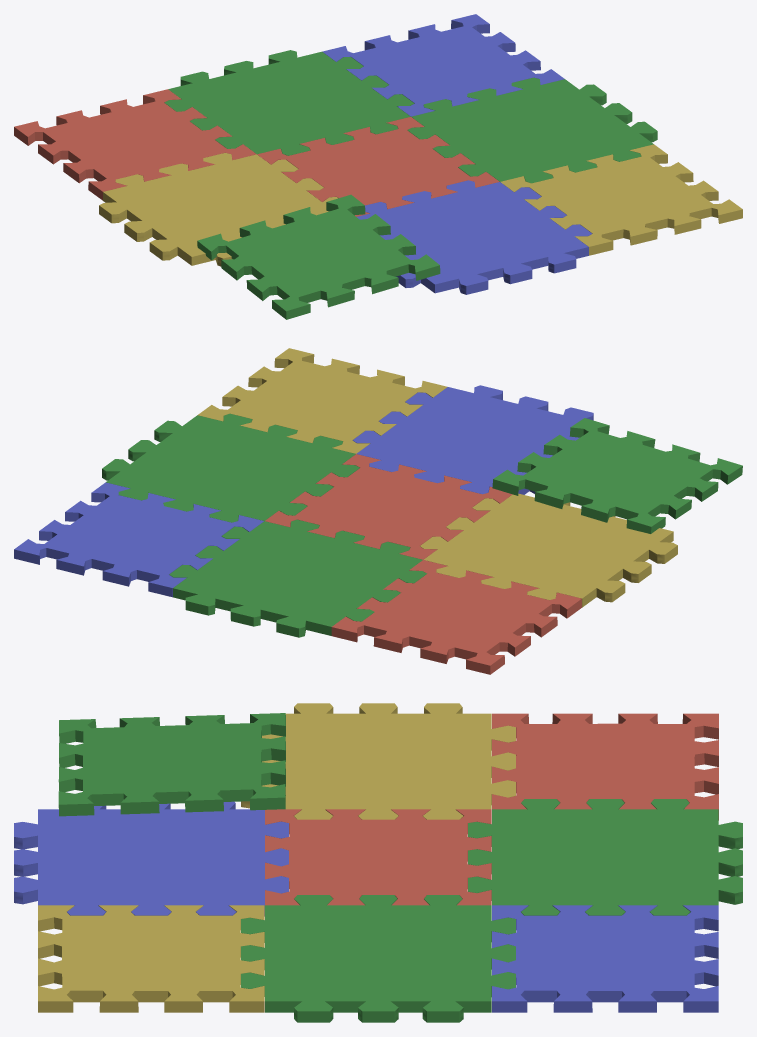
Rendered from ToyFloor (1).fbx.
3 renders of one model, top to bottom at view 1: azimuth 30°, elevation 25°; view 2: azimuth 150°, elevation 25°; view 3: azimuth 270°, elevation 25°, orthographic. The views are drawn at different scales.
Parts seen in each view (by area): view 1: ToyFloor2, ToyFloor3, ToyFloor5, ToyFloor7, ToyFloor6, ToyFloor1, ToyFloor8, ToyFloor, ToyFloor4; view 2: ToyFloor3, ToyFloor2, ToyFloor6, ToyFloor7, ToyFloor8, ToyFloor5, ToyFloor, ToyFloor1, ToyFloor4; view 3: ToyFloor2, ToyFloor3, ToyFloor5, ToyFloor6, ToyFloor, ToyFloor1, ToyFloor7, ToyFloor8, ToyFloor4.
Boxes of the visible parts, box(x1,y1,x2,y2) form: ToyFloor2: box(407, 77, 657, 183); ToyFloor3: box(164, 50, 414, 155); ToyFloor5: box(357, 180, 592, 294); ToyFloor7: box(197, 194, 440, 319); ToyFloor6: box(99, 153, 337, 266); ToyFloor1: box(500, 144, 742, 255); ToyFloor8: box(14, 89, 256, 200); ToyFloor: box(322, 14, 564, 116); ToyFloor4: box(257, 117, 499, 216); ToyFloor3: box(169, 519, 426, 637); ToyFloor2: box(102, 413, 359, 522); ToyFloor6: box(420, 493, 677, 607); ToyFloor7: box(492, 418, 742, 533); ToyFloor8: box(331, 560, 581, 674); ToyFloor5: box(352, 385, 593, 494); ToyFloor: box(14, 482, 263, 597); ToyFloor1: box(197, 348, 447, 453); ToyFloor4: box(265, 454, 512, 559); ToyFloor2: box(241, 895, 515, 1022); ToyFloor3: box(468, 799, 742, 915); ToyFloor5: box(14, 801, 288, 916); ToyFloor6: box(241, 703, 515, 819); ToyFloor: box(492, 905, 718, 1012); ToyFloor1: box(38, 905, 264, 1012); ToyFloor7: box(58, 713, 285, 816); ToyFloor8: box(492, 713, 718, 820); ToyFloor4: box(265, 809, 491, 905).
Bounding box in the file's own units: 12.85 × 0.6126 × 12.85.
